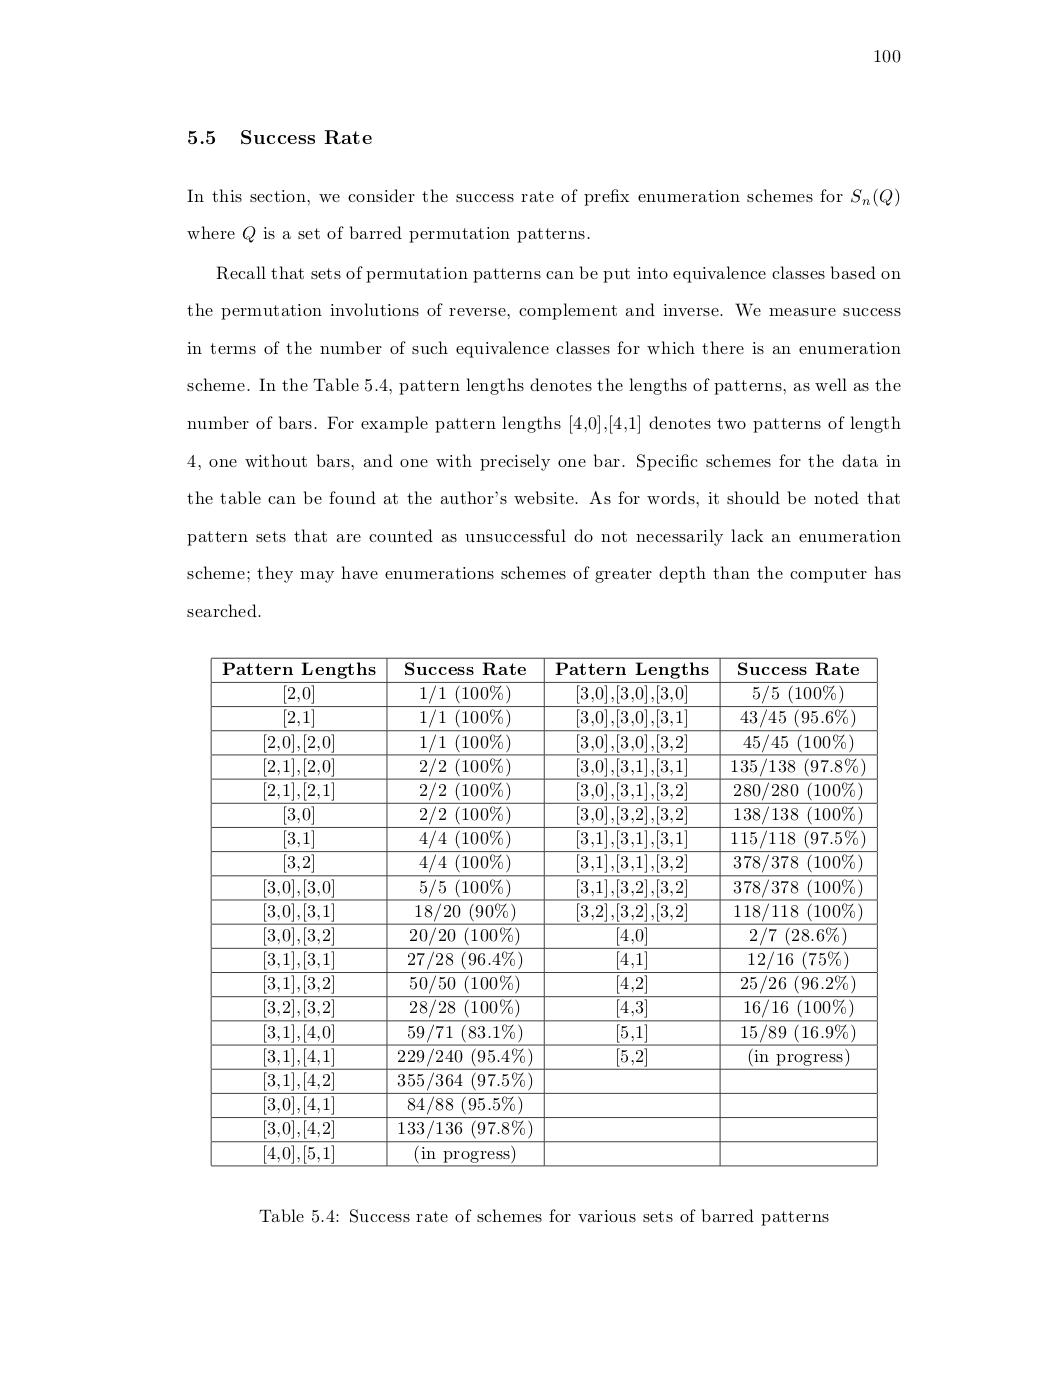Table: (210, 656, 877, 1167)
